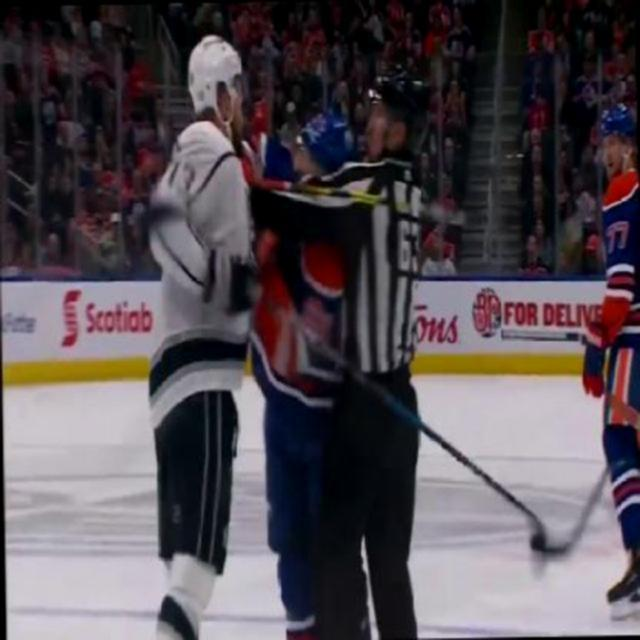fight: (146, 25, 420, 390)
